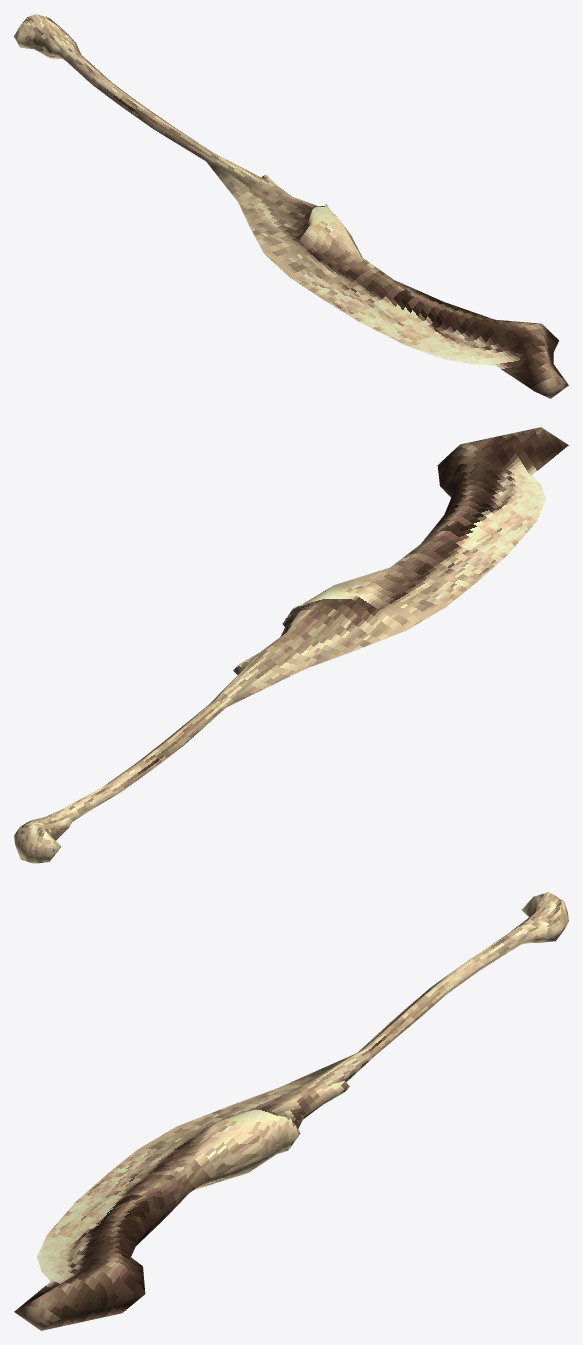
3 views of the same model, one above another, from view 1: azimuth 30°, elevation 25°; view 2: azimuth 150°, elevation 25°; view 3: azimuth 330°, elevation 25° (orthographic). The views are drawn at different scales.
Parts seen in each view (by area): view 1: weapon/we028.pac; view 2: weapon/we028.pac; view 3: weapon/we028.pac.
Boxes of the visible parts, x1=… form: weapon/we028.pac: x1=14, y1=14, x2=568, y2=398; weapon/we028.pac: x1=14, y1=427, x2=568, y2=863; weapon/we028.pac: x1=14, y1=892, x2=568, y2=1330.
Bounding box in the file's own units: 44.38 × 13.72 × 279.
Materials: 1 (1 with a texture image).
